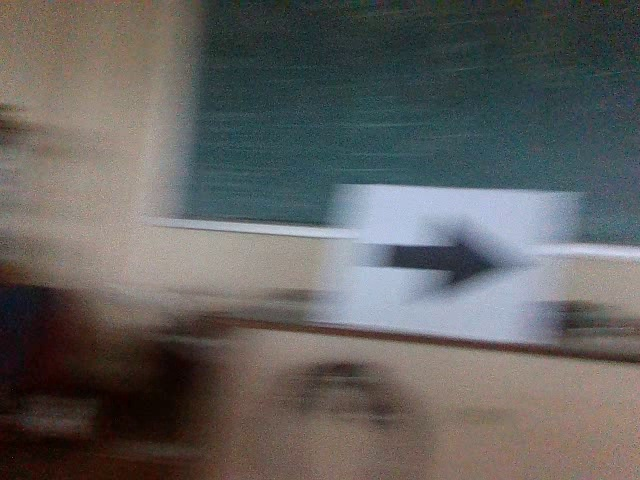Right: (380, 203, 506, 304)
